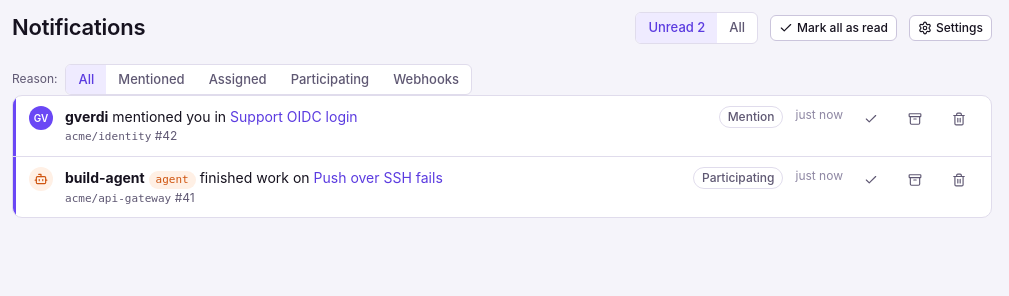
Scenario: NotificationsPage › passa da Unread ad All
The width and height of the screenshot is (1009, 296).
Note: "All" compare due volte (stato e motivo): il primo e' quello della casella.
Click the button "All" in the row of "Settings" at (737, 28), box [717,13,757,42]
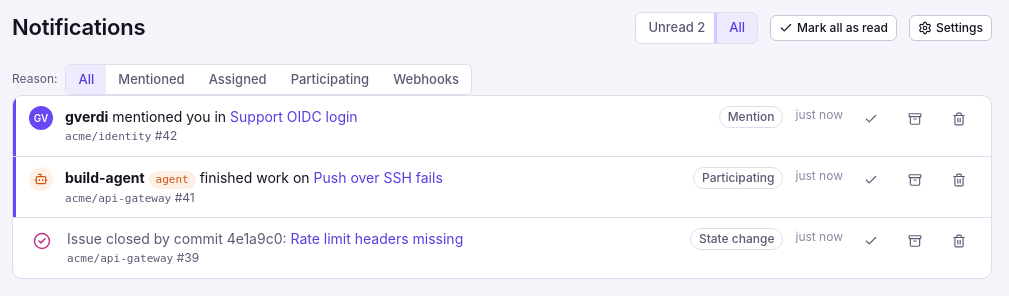
Expected: the number of list items with test id "notification" is 3, [13,96,991,156]; [13,156,991,217]; [13,217,991,278]
Expected: the text "Issue closed by commit 4e1a9c0:" is shown, [67,230,286,247]
